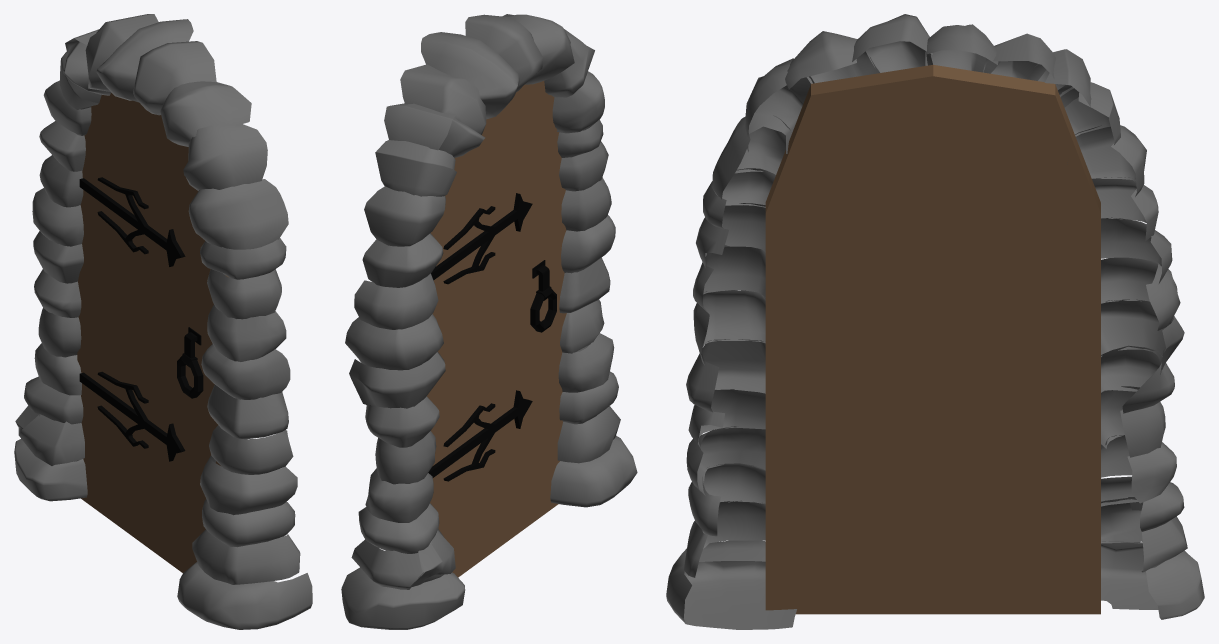
The model's file is Puerta.fbx.
3 renders of one model, left to right at view 1: azimuth 30°, elevation 25°; view 2: azimuth 150°, elevation 25°; view 3: azimuth 270°, elevation 25°, orthographic. The views are drawn at different scales.
Parts seen in each view (by area): view 1: Arco_Pierta, Puerta, Adorno_Puerta_01, Adorno_Puerta_02, Picapoorte; view 2: Arco_Pierta, Puerta, Adorno_Puerta_01, Adorno_Puerta_02, Picapoorte; view 3: Puerta, Arco_Pierta.
Part boxes in pixels (left/top/right/bottom): Arco_Pierta: left=14, top=14, right=312, bottom=629; Puerta: left=77, top=93, right=228, bottom=572; Adorno_Puerta_01: left=79, top=371, right=185, bottom=461; Adorno_Puerta_02: left=79, top=177, right=185, bottom=266; Picapoorte: left=177, top=327, right=203, bottom=398; Arco_Pierta: left=341, top=14, right=637, bottom=629; Puerta: left=427, top=81, right=566, bottom=577; Adorno_Puerta_01: left=428, top=390, right=532, bottom=481; Adorno_Puerta_02: left=431, top=193, right=532, bottom=284; Picapoorte: left=530, top=260, right=556, bottom=332; Puerta: left=765, top=64, right=1100, bottom=614; Arco_Pierta: left=666, top=14, right=1204, bottom=629.
Size of the model in its own units: 52.89 by 253 by 210.
